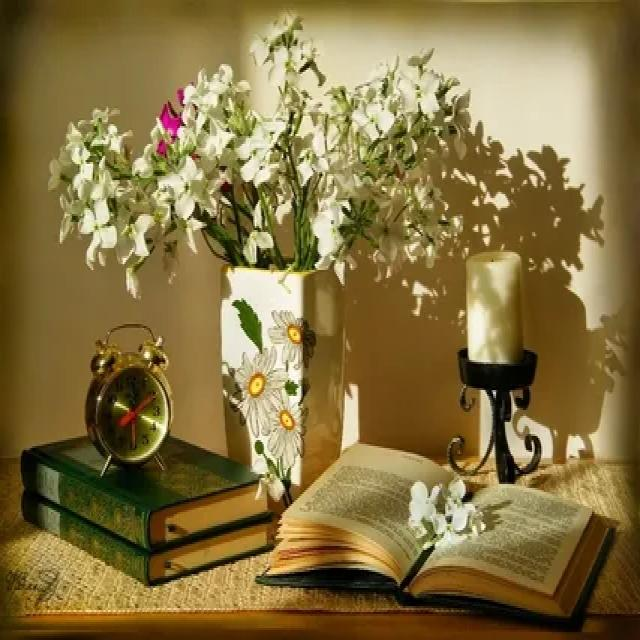book: (272, 423, 624, 640)
